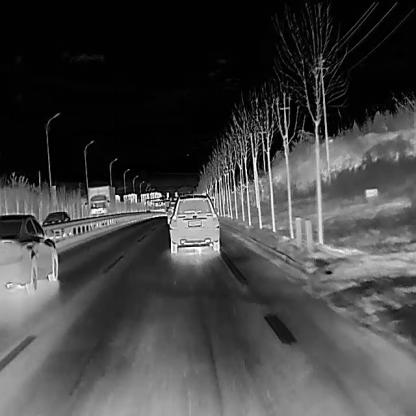car: (0, 213, 57, 295), (168, 194, 220, 253), (40, 210, 71, 238), (164, 200, 177, 223)
truck: (86, 184, 115, 228)
